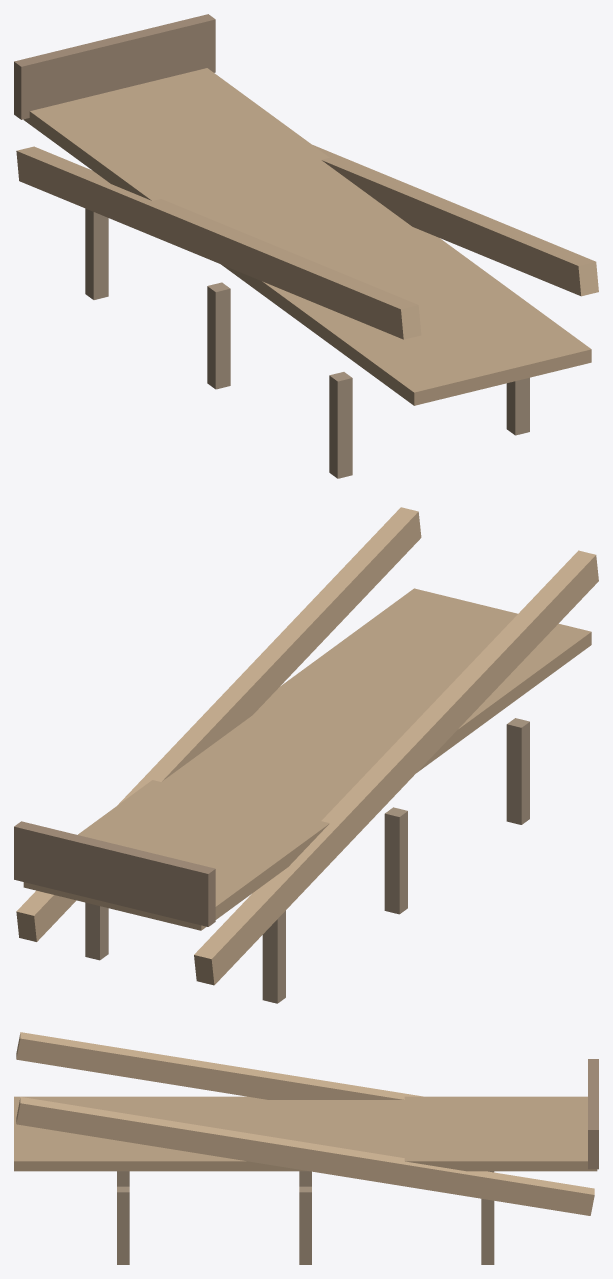
The model's file is logging_chute_near-B9LWOUFz.glb.
3 renders of one model, top to bottom at view 1: azimuth 30°, elevation 25°; view 2: azimuth 150°, elevation 25°; view 3: azimuth 270°, elevation 25°, orthographic. The views are drawn at different scales.
Parts seen in each view (by area): view 1: logging_chute_near; view 2: logging_chute_near; view 3: logging_chute_near.
Part boxes in pixels (x1,y1,x2,y2): logging_chute_near: [14, 14, 598, 478]; logging_chute_near: [14, 507, 598, 1003]; logging_chute_near: [14, 1032, 598, 1264].
Bounding box in the file's own units: 4.62 × 4.91 × 16.05.
